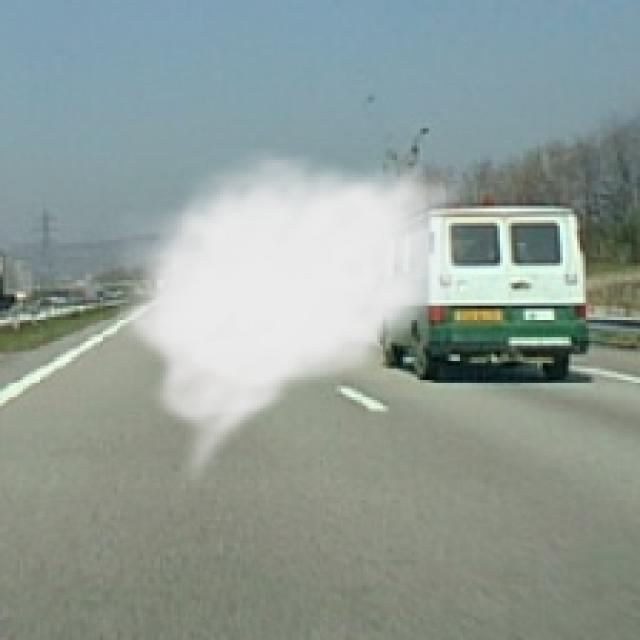Smoke: (108, 146, 483, 492)
